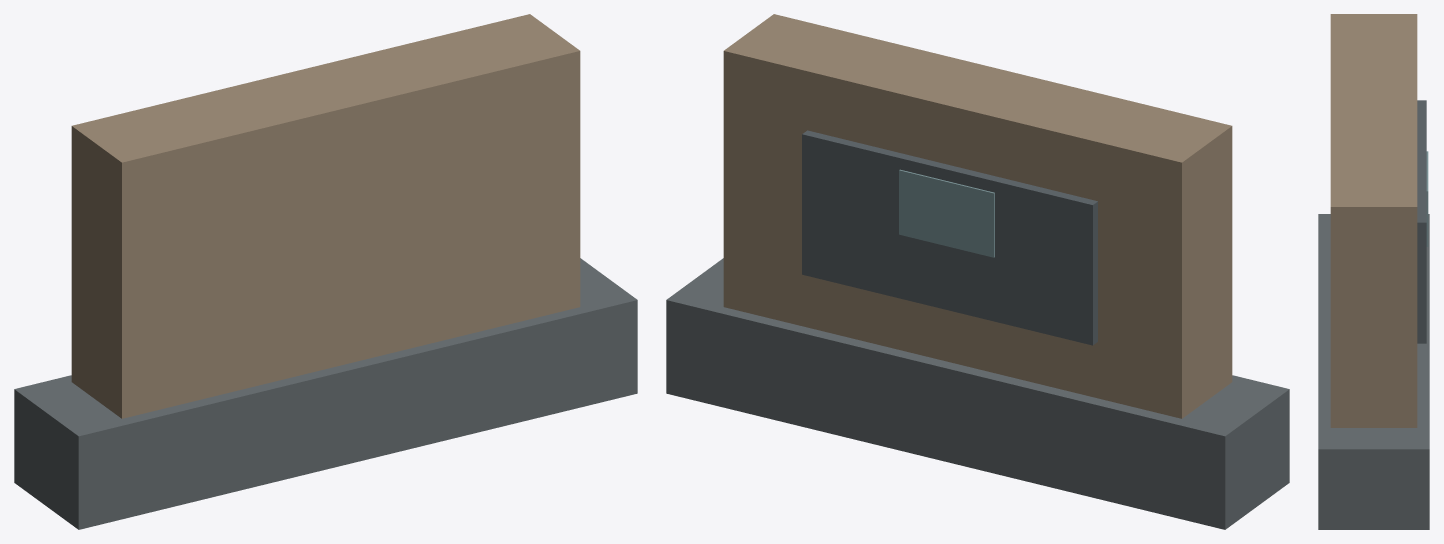
File: iz3_build_defense_barricade_02.glb
3 renders of one model, left to right at view 1: azimuth 30°, elevation 25°; view 2: azimuth 150°, elevation 25°; view 3: azimuth 270°, elevation 25°, orthographic. The views are drawn at different scales.
Parts seen in each view (by area): view 1: cabinet, base; view 2: cabinet, base, panel, display; view 3: cabinet, base, panel, display.
Boxes of the visible parts, bbox=[...] form: cabinet: bbox=[71, 14, 580, 418]; base: bbox=[14, 258, 637, 529]; cabinet: bbox=[723, 14, 1232, 418]; base: bbox=[666, 258, 1289, 529]; panel: bbox=[802, 130, 1097, 345]; display: bbox=[899, 169, 994, 257]; cabinet: bbox=[1330, 14, 1417, 427]; base: bbox=[1318, 214, 1429, 529]; panel: bbox=[1417, 100, 1426, 343]; display: bbox=[1426, 151, 1428, 246].
Size of the model in its own units: 2 by 1.2 by 0.4.
